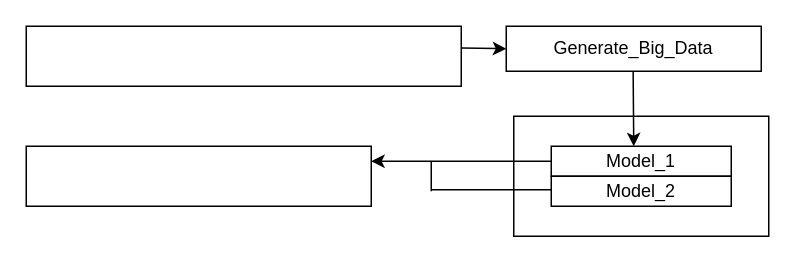
Some shapes in this 795 by 263 pixel diagram are drawn without their labels. Here are the shapes that lost their labels. From the top down, the box of each, then its label:
(25, 25, 461, 86): Checking_SP_Model_1_Normal_Special.R Check_Data.Rmd
(25, 145, 371, 206): No_Correlated_Covariate.RData
